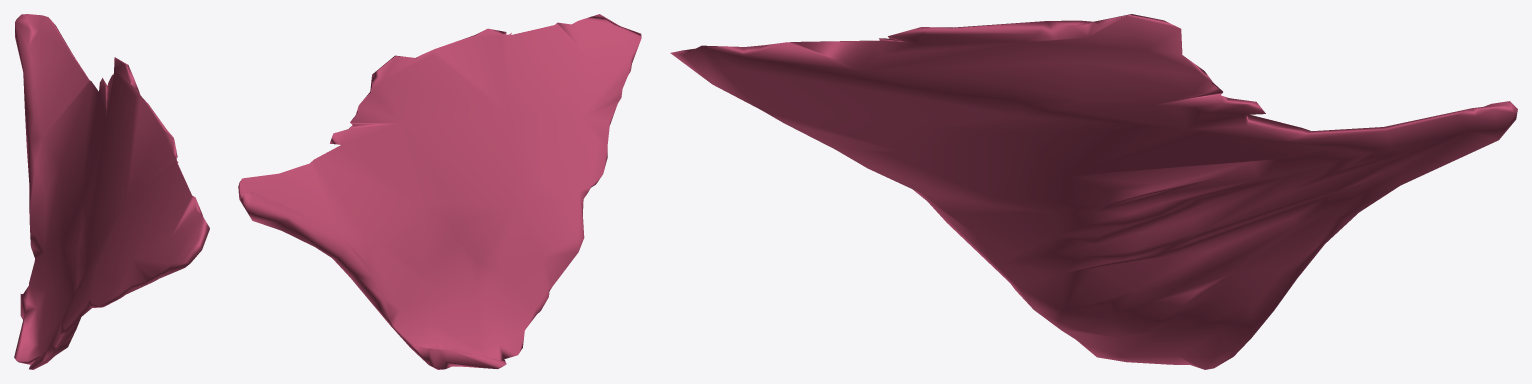
3 views of the same model, side by side, from view 1: azimuth 30°, elevation 25°; view 2: azimuth 150°, elevation 25°; view 3: azimuth 270°, elevation 25° (orthographic). The views are drawn at different scales.
Visible parts, largest first — view 1: 左侧鼻肌; view 2: 左侧鼻肌; view 3: 左侧鼻肌.
Boxes of the visible parts, <box> form: 左侧鼻肌: <box>14,14,209,369</box>; 左侧鼻肌: <box>238,14,641,369</box>; 左侧鼻肌: <box>670,14,1517,369</box>.
Bounding box in the file's own units: 0.0195 × 0.0321 × 0.0594.
